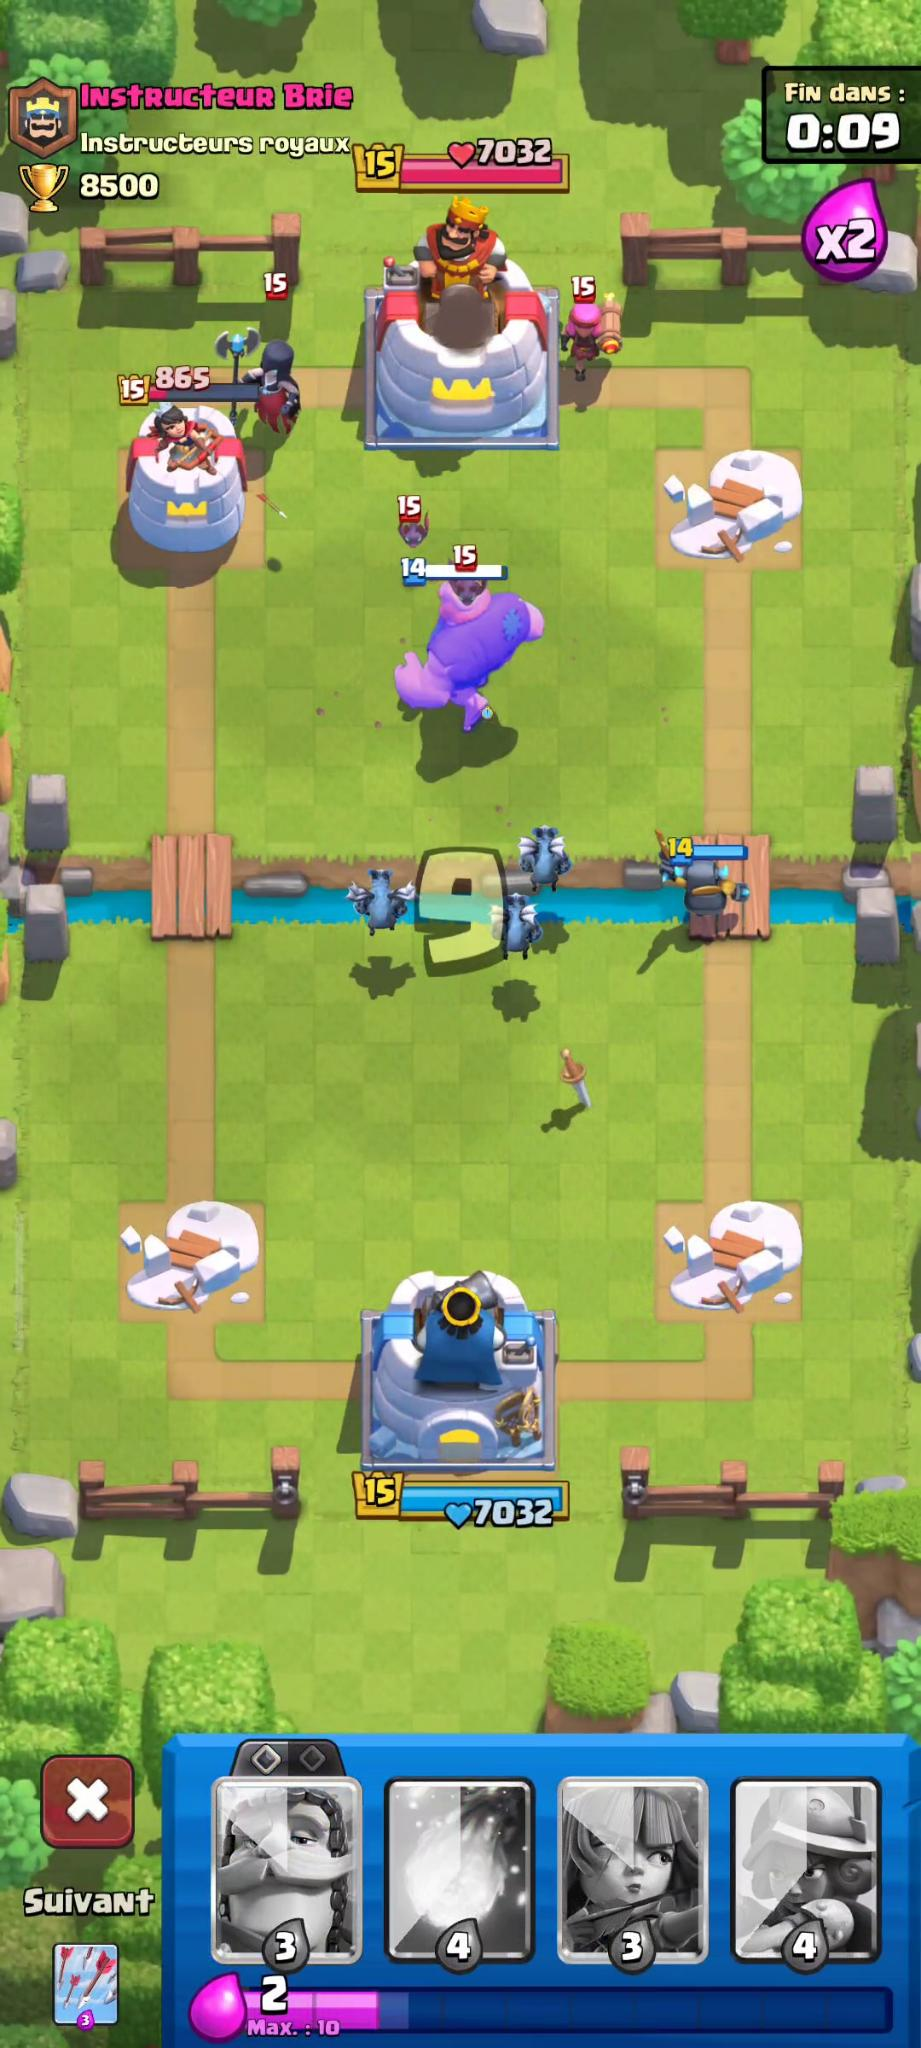bat: (432, 529, 529, 623), (375, 486, 444, 558)
gargouille: (493, 866, 542, 960), (349, 865, 412, 939), (517, 831, 568, 900)
geant: (393, 558, 546, 737)
mousquetaire: (621, 1443, 656, 1522)
